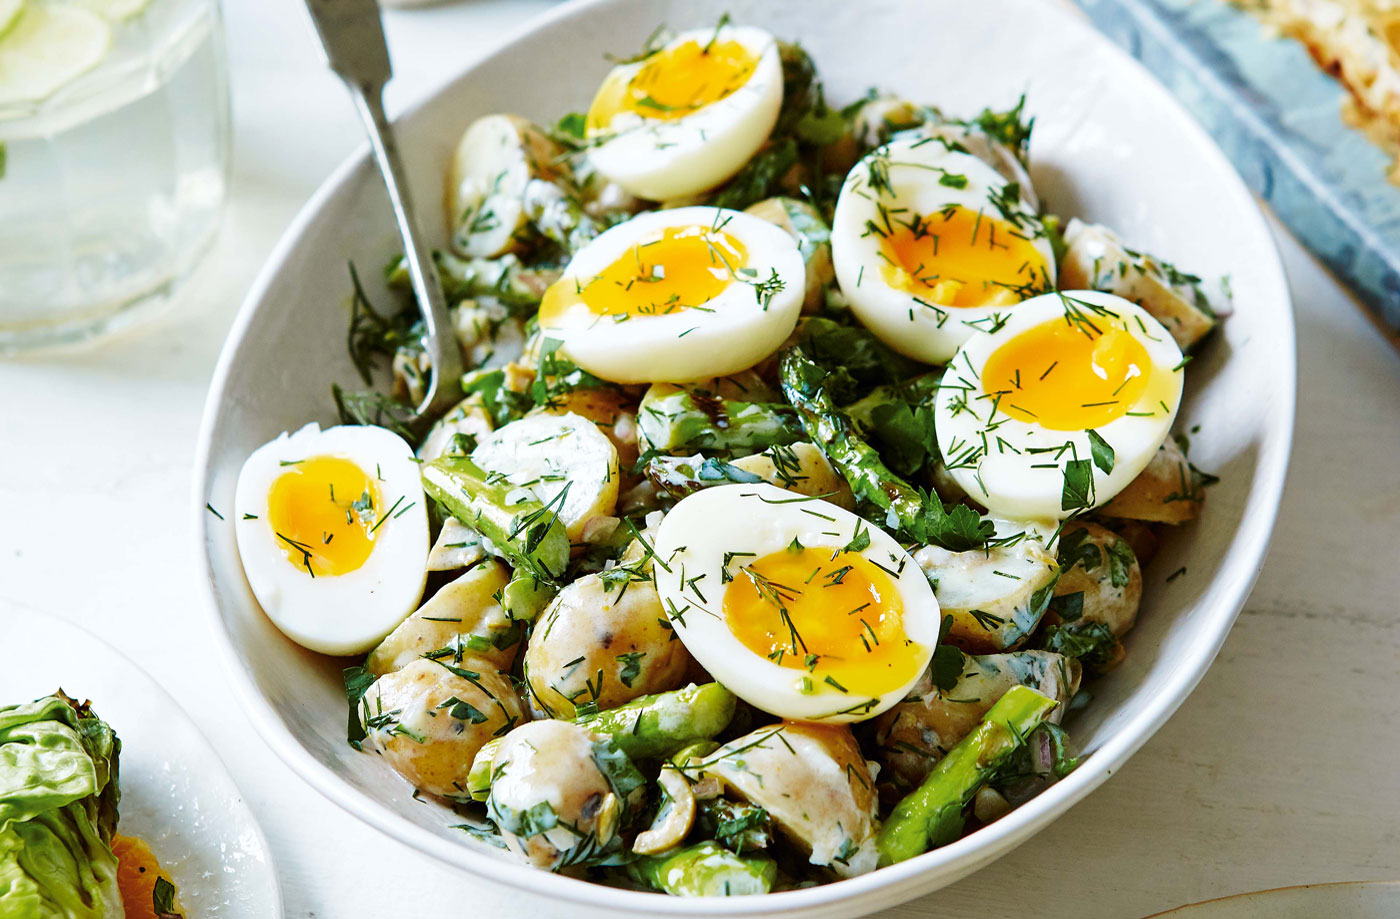boiled potatoes: (709, 710, 886, 864), (524, 563, 694, 713), (360, 660, 524, 790), (484, 405, 627, 537), (435, 111, 564, 251)
fried egg: (653, 484, 939, 723), (929, 268, 1185, 518), (836, 114, 1074, 350), (234, 424, 429, 648), (543, 215, 802, 370)
